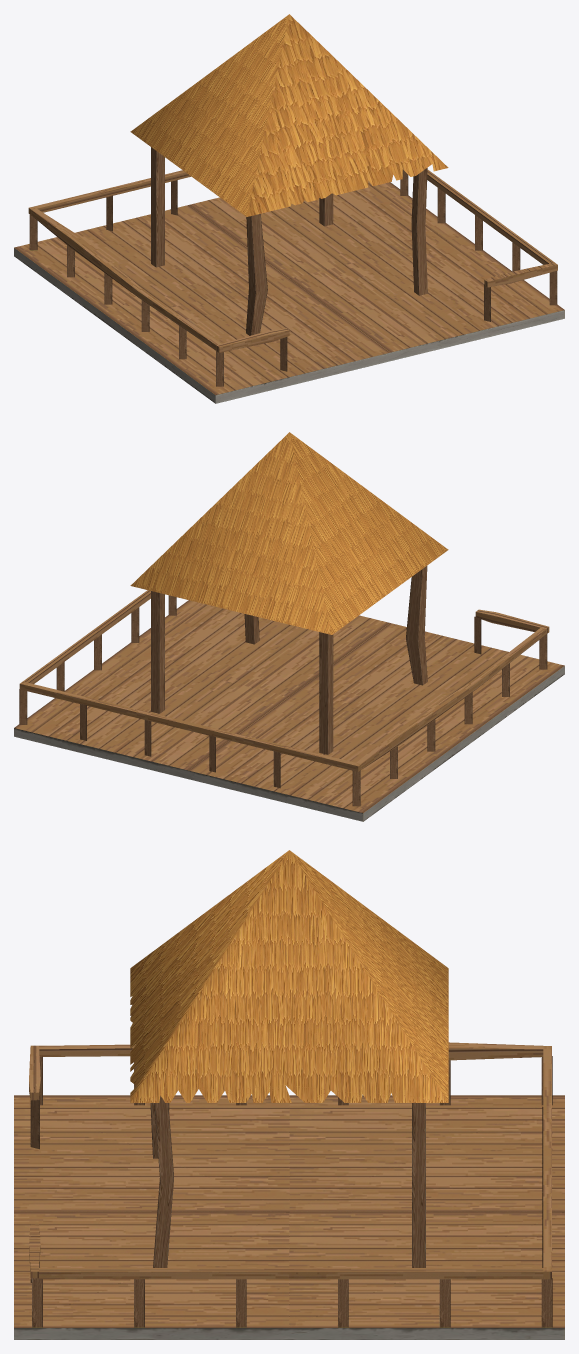
The model's file is Casa3.fbx.
3 views of the same model, one above another, from view 1: azimuth 30°, elevation 25°; view 2: azimuth 150°, elevation 25°; view 3: azimuth 270°, elevation 25° (orthographic). The views are drawn at different scales.
Visible parts, largest first — view 1: defaultMaterial.006; view 2: defaultMaterial.006; view 3: defaultMaterial.006.
Boxes of the visible parts, x1,y1,x2,y2 form: defaultMaterial.006: [14, 14, 564, 403]; defaultMaterial.006: [14, 432, 564, 821]; defaultMaterial.006: [14, 850, 564, 1339].
Size of the model in its own units: 4.93 by 3.69 by 4.93.
